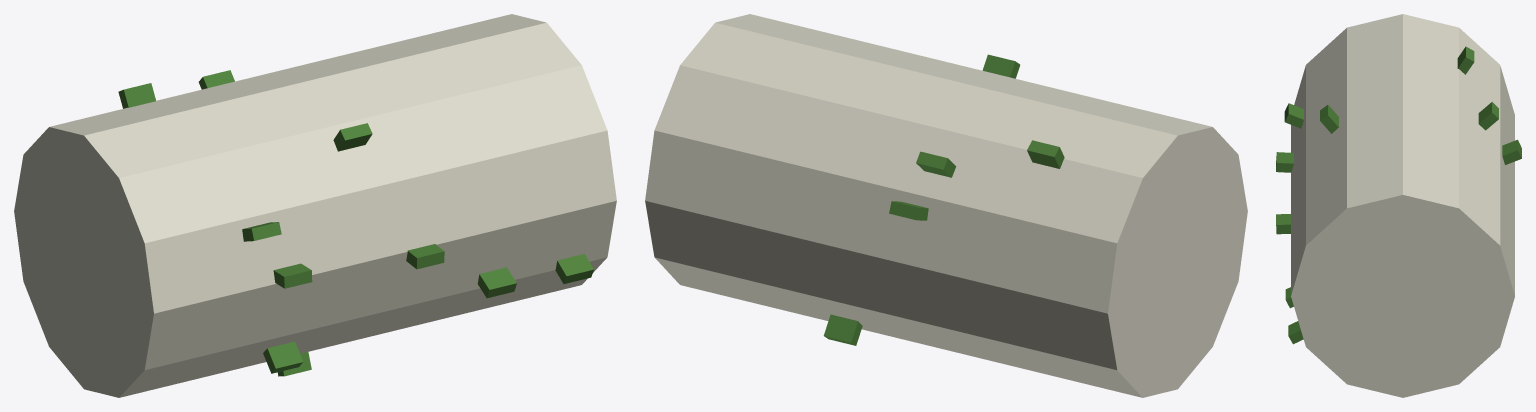
Rendered from goat_cheese.obj.
3 renders of one model, left to right at view 1: azimuth 30°, elevation 25°; view 2: azimuth 150°, elevation 25°; view 3: azimuth 270°, elevation 25°, orthographic. The views are drawn at different scales.
Parts seen in each view (by area): view 1: item; view 2: item; view 3: item.
Part boxes in pixels (<box>): item: <box>14,14,616,397</box>; item: <box>645,14,1247,397</box>; item: <box>1276,14,1521,397</box>.
Size of the model in its own units: 0.42 by 0.227 by 0.2412.
